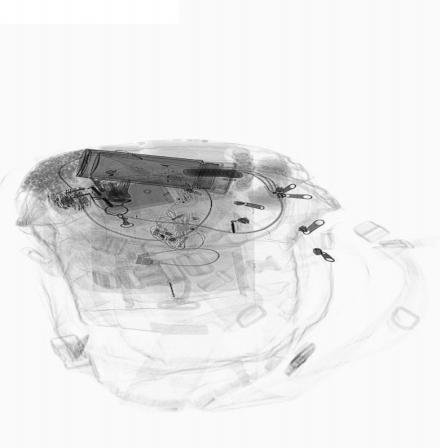Powerbank: (93, 174, 194, 216)
